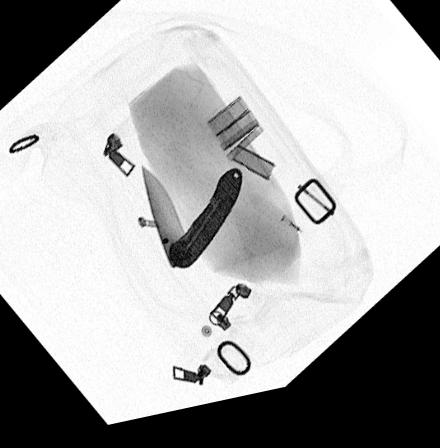Knife: (140, 168, 244, 278)
